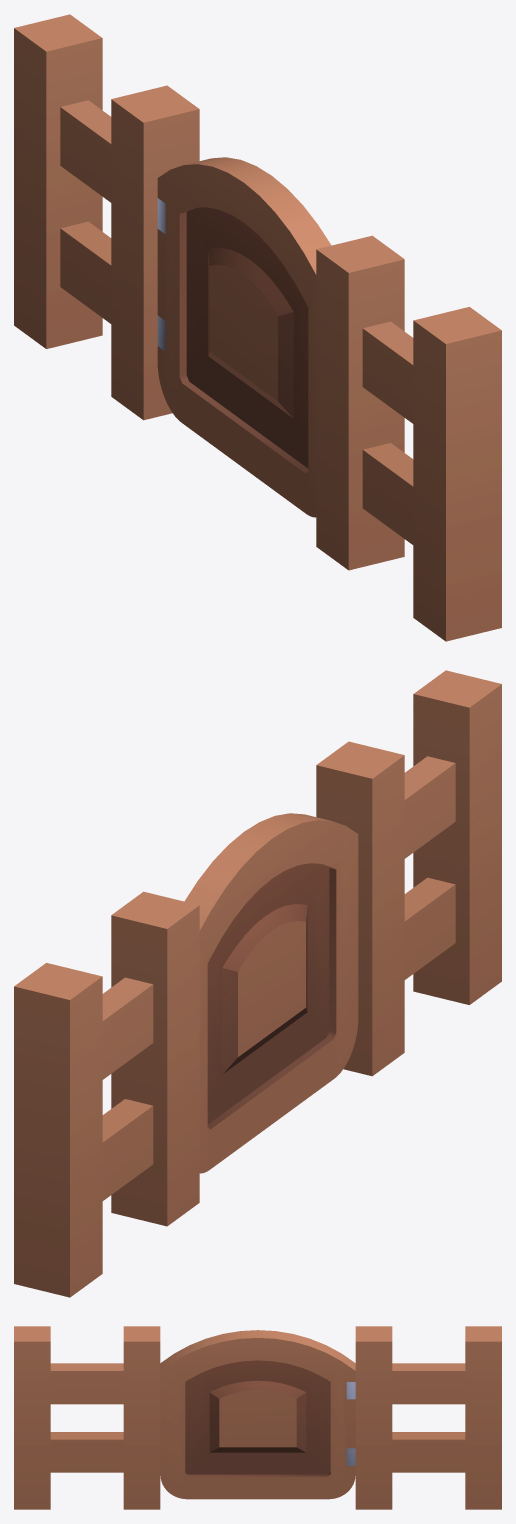
File: fence-gate.glb
3 views of the same model, one above another, from view 1: azimuth 30°, elevation 25°; view 2: azimuth 150°, elevation 25°; view 3: azimuth 270°, elevation 25° (orthographic). The views are drawn at different scales.
Parts seen in each view (by area): view 1: fence-gate; view 2: fence-gate; view 3: fence-gate.
Boxes of the visible parts, box(x1,y1,x2,y2) form: fence-gate: box(14, 14, 501, 641); fence-gate: box(14, 670, 501, 1297); fence-gate: box(14, 1326, 501, 1509).
Bounding box in the file's own units: 0.075 × 0.38 × 1.
1 material, 1 textured.
